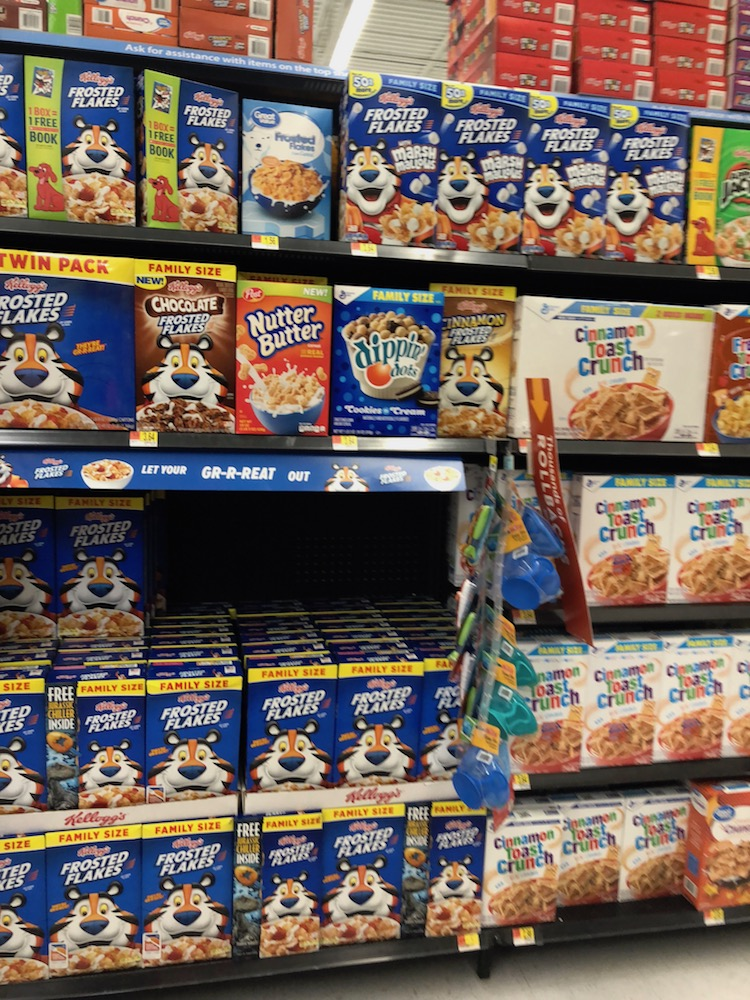Dippin Dots Cookies & Cream -568929378: (325, 281, 439, 430)
Nutter Butter-565717511: (224, 281, 344, 434)
